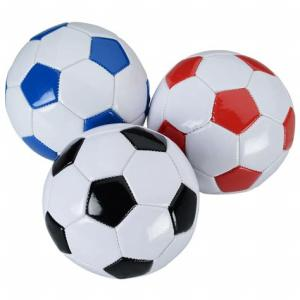Football: (41, 122, 196, 275), (1, 18, 151, 165), (151, 49, 295, 197)
